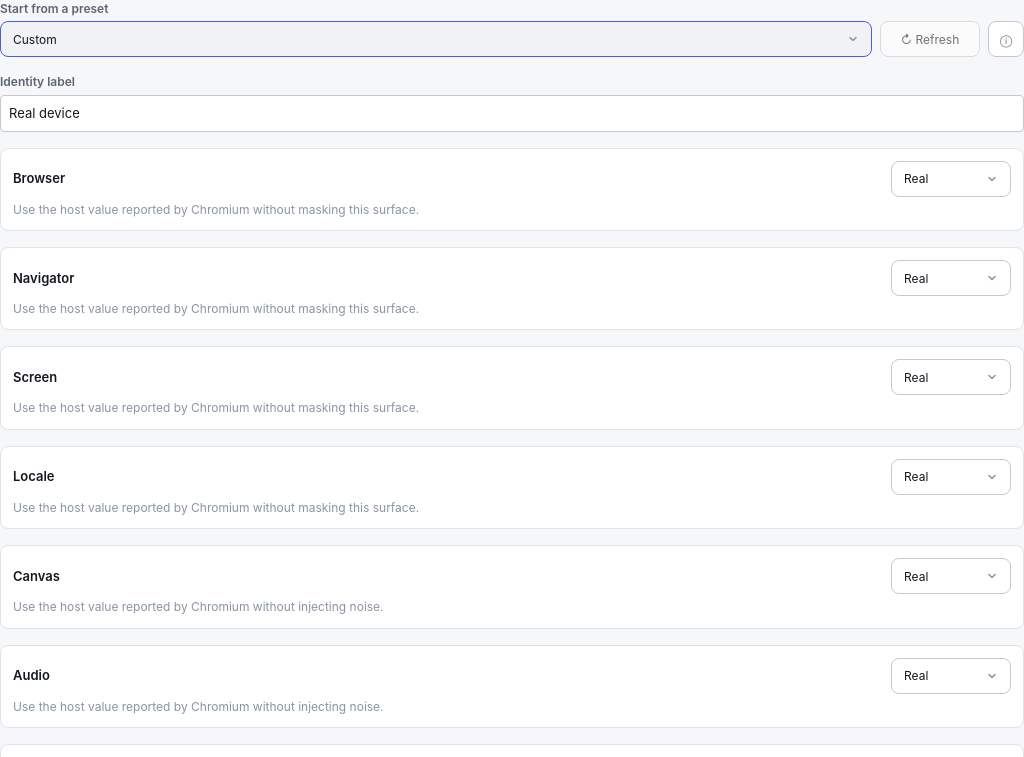
Test: keeps preset explanations collapsed until Info is requested
Check: the text "A preset sets every surface" is not shown
What coordinates should you click on to do the following:
click the button named "Preset information"
I would click on:
 (1006, 39)
Its box is 988,21 -> 1023,57.
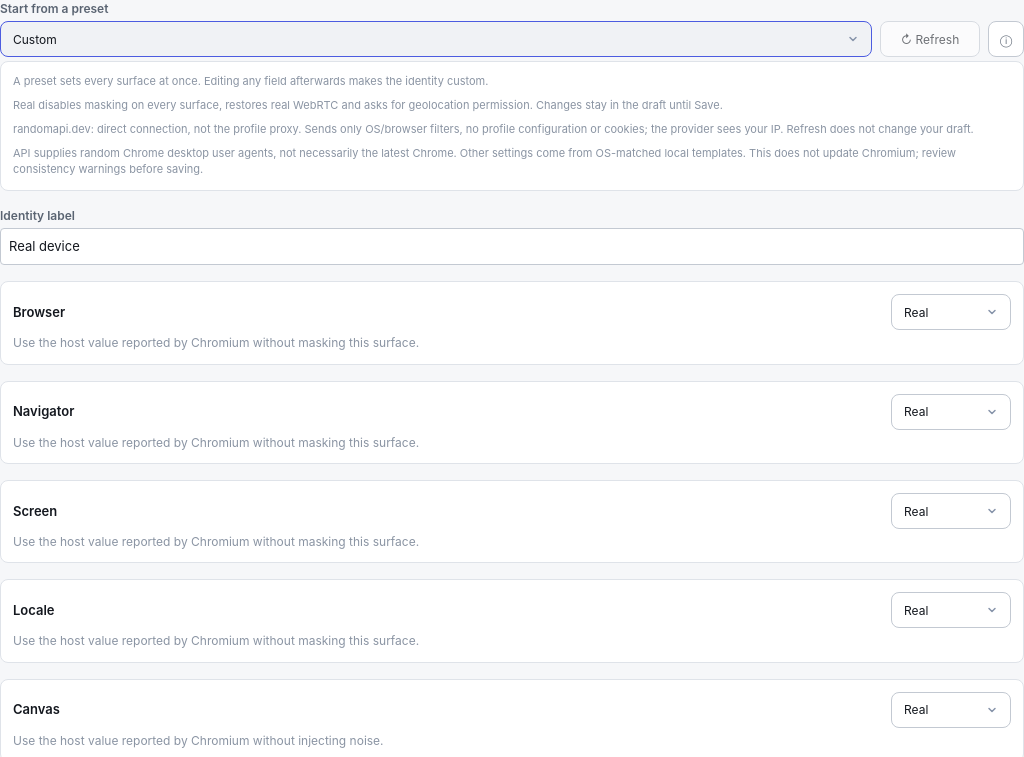
Check: the text "A preset sets every surface" is shown, box 13,74 -> 488,88
What coordinates should you click on to do the following:
click the button named "Preset information"
I would click on:
 (1006, 39)
Its box is 988,21 -> 1023,57.
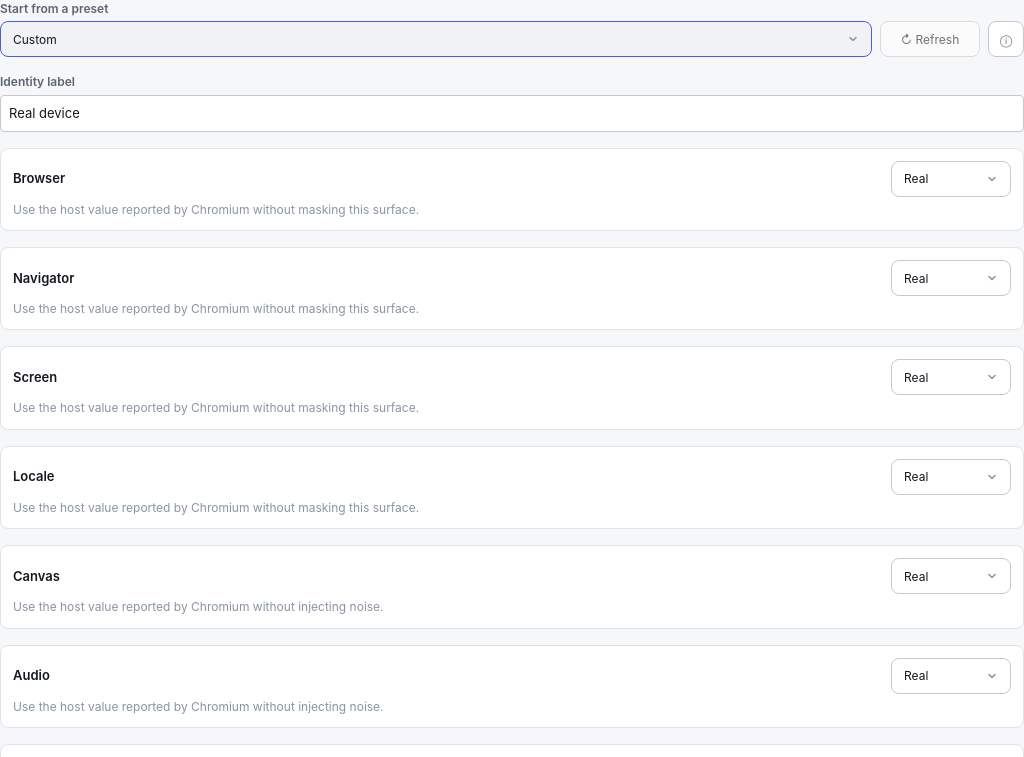
Check: the text "A preset sets every surface" is gone
